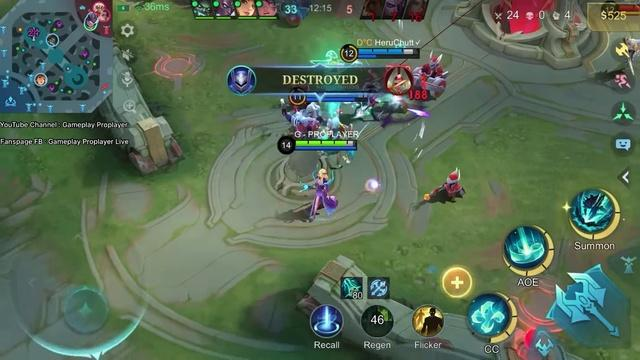Adc_Aliado: (88, 12, 97, 24)
Adc_Enemigo: (97, 9, 110, 23)
Esbirro_Enemigo: (421, 163, 470, 211), (415, 54, 447, 99), (287, 107, 328, 136)
Exp_Aliado: (46, 34, 58, 48)
HP_Aliado: (358, 50, 420, 55), (324, 94, 369, 98)
HP_Heroe_Principal: (296, 141, 355, 146)
Hechizo_Batalla: (412, 305, 443, 336)
Jungla_Aliado: (34, 73, 48, 87)
Mana: (307, 96, 368, 101), (356, 54, 421, 58), (296, 147, 358, 150)
Mid_Aliado: (84, 22, 96, 32)
Mid_Enemigo: (92, 0, 107, 13)
Minimapa: (0, 0, 114, 113)
Nexo_Enemigo: (450, 0, 601, 66)
Roamer_Aliado: (83, 16, 96, 26)
Skill1: (468, 293, 519, 343)
Skill2: (506, 224, 556, 274)
Vexana: (303, 170, 339, 221)
skill3: (570, 188, 620, 237)
